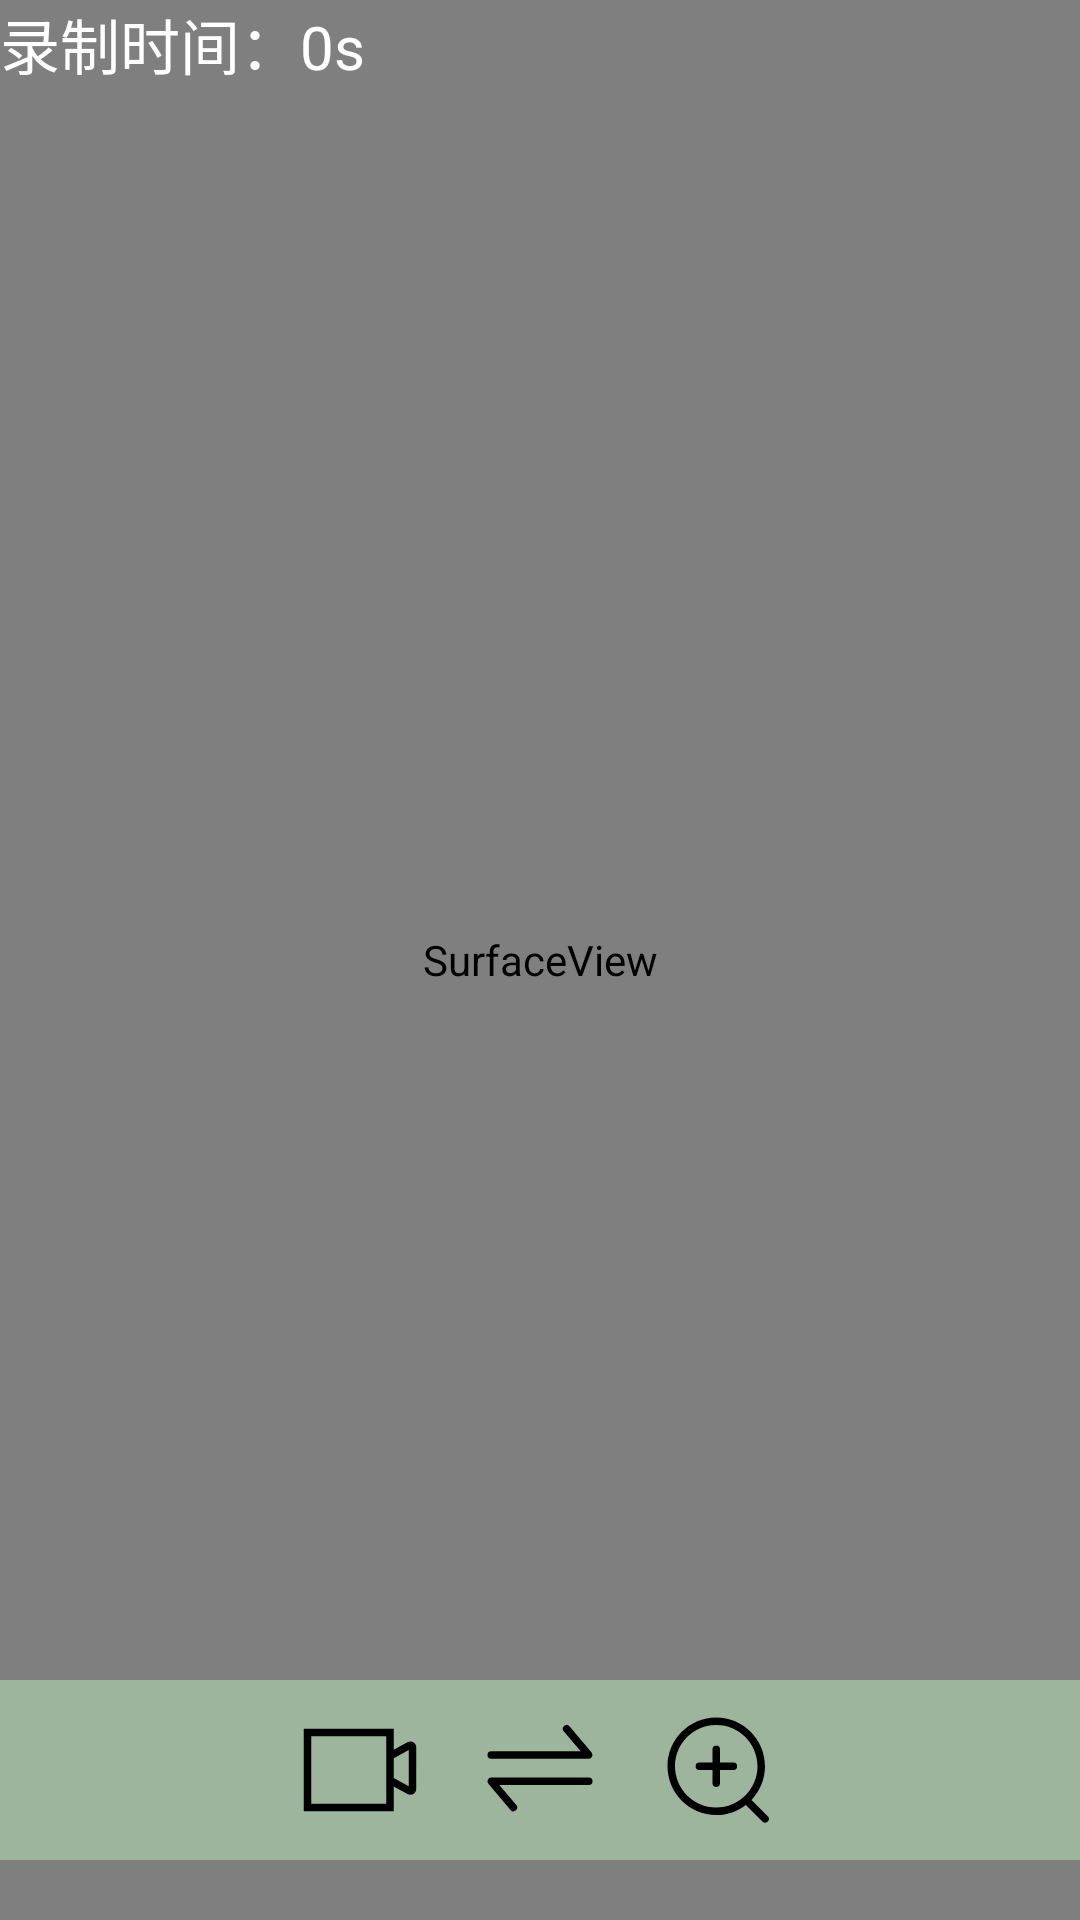

Where to tap for icons on this 1080w x 1920h app screen, as (x=x, y=y):
camera: (x=360, y=1770)
facing: (x=540, y=1768)
zoom: (x=718, y=1770)
